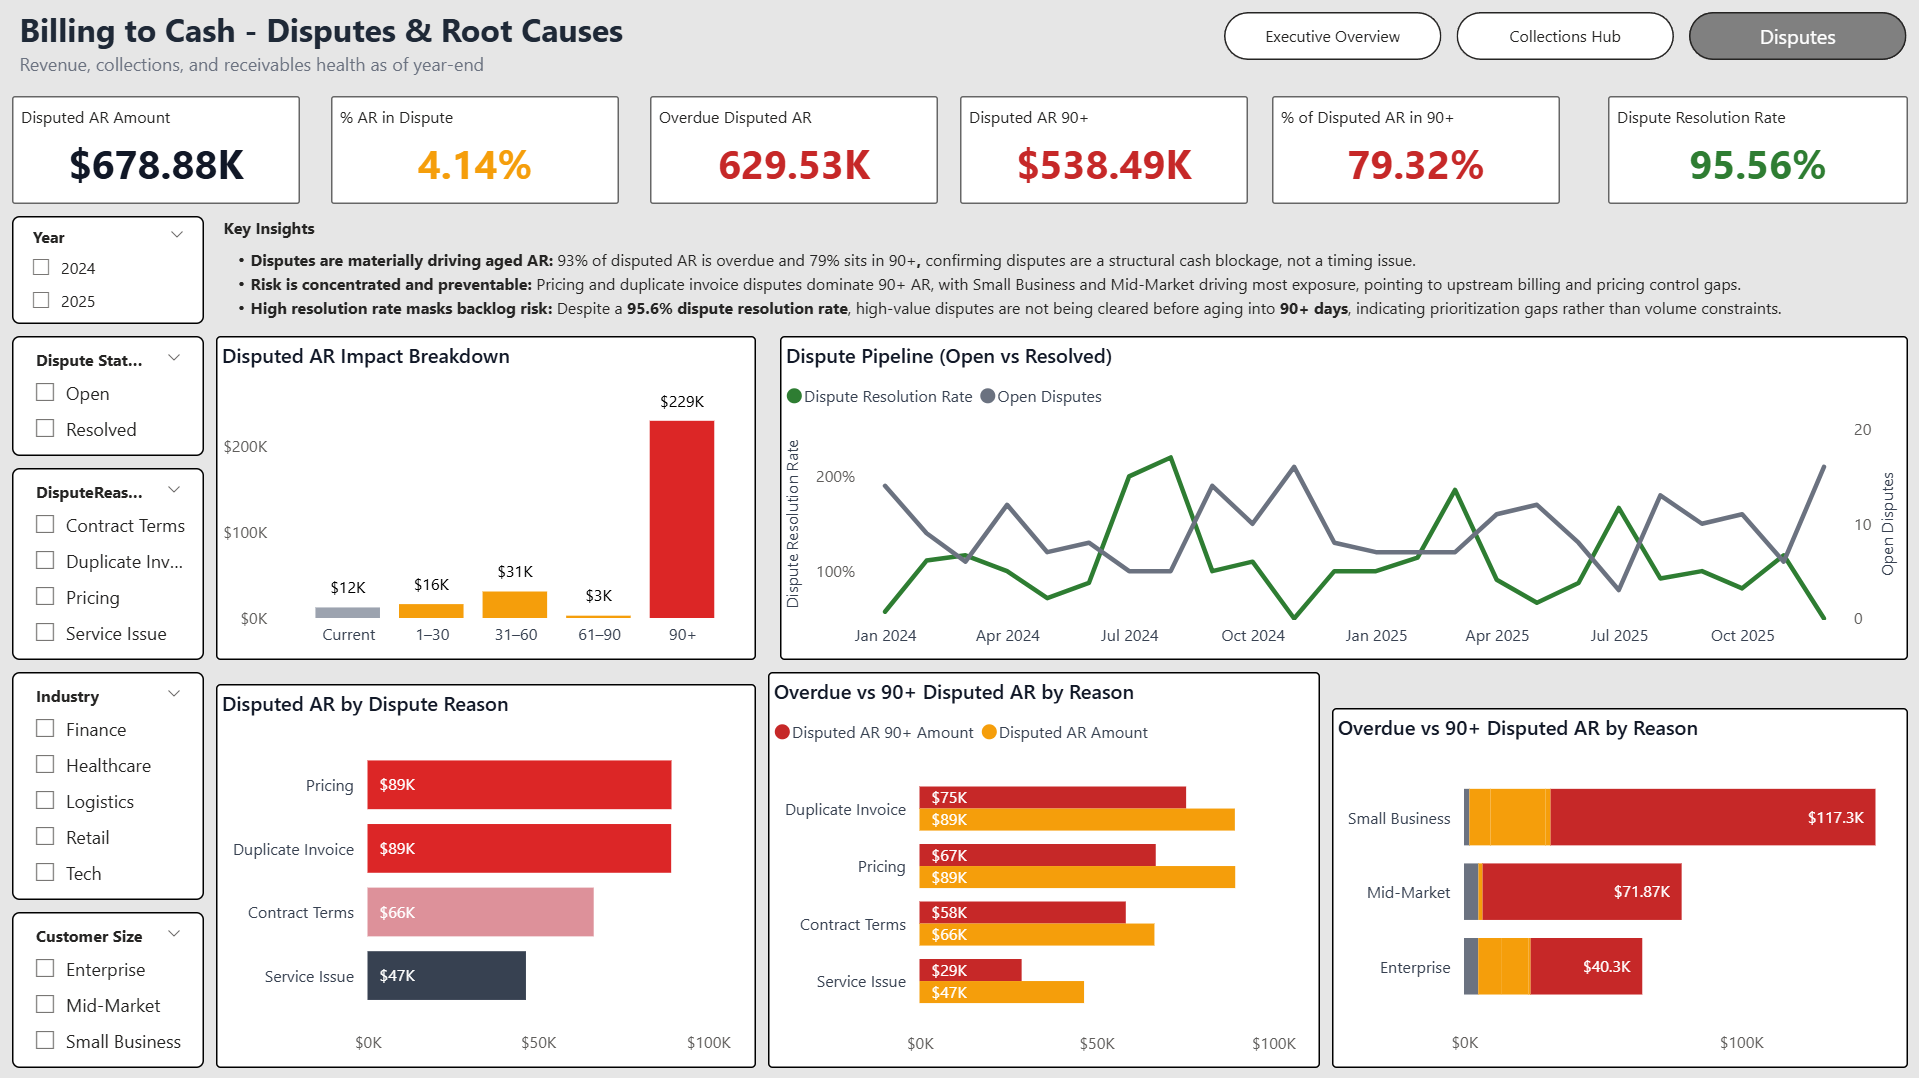

What the dashboard file says about the page in this screenshot:
{"tool":"powerbi","page":{"name":"Disputes","canvas":[1280,720],"ordinal":2},"visuals":[{"type":"textbox","box":[8,0,424,56],"z":0},{"type":"pageNavigator","box":[816,8,456,32],"z":1000},{"type":"slicer","title":"Year","fields":{"Values":["DimDate.Year"]},"box":[8,144,128,72],"z":2000},{"type":"slicer","fields":{"Values":["DimCustomer.CustomerSize"]},"box":[8,608,128,104],"z":3000},{"type":"slicer","fields":{"Values":["FactDisputes.DisputeReason"]},"box":[8,312,128,128],"z":4000},{"type":"slicer","fields":{"Values":["FactDisputes.DisputeStatus"]},"box":[8,224,128,80],"z":5000},{"type":"card","title":"% AR in Dispute","fields":{"Values":["Calc_Measures.% AR in Dispute"]},"box":[220.8,64,192,72],"z":6000},{"type":"card","title":"Disputed AR in 90+","fields":{"Values":["Calc_Measures.Disputed AR 90+ Amount"]},"box":[640,64,192,72],"z":7000},{"type":"card","title":"Disputed AR Amount","fields":{"Values":["Calc_Measures.Disputed AR Amount"]},"box":[8,64,192,72],"z":8000},{"type":"card","title":"Overdue Disputed AR","fields":{"Values":["Calc_Measures.Overdue Disputed AR"]},"box":[433.6,64,192,72],"z":9000},{"type":"card","title":"Dispute Resolution Rate","fields":{"Values":["Calc_Measures.Dispute Resolution Rate"]},"box":[1072,64,200,72],"z":10000},{"type":"card","title":"% of Disputed AR in 90+","fields":{"Values":["Calc_Measures.% of Disputed AR in 90+"]},"box":[848,64,192,72],"z":11000},{"type":"textbox","title":"Key Insights","box":[144,144,1136,88],"z":12000},{"type":"slicer","fields":{"Values":["DimCustomer.Industry"]},"box":[8,448,128,152],"z":13000},{"type":"clusteredColumnChart","title":"Disputed AR Impact Breakdown","fields":{"Category":["DimAgingBucket.Aging Bucket"],"Y":["Calc_Measures.Disputed AR Amount"]},"box":[144,224,360,216],"z":14000},{"type":"barChart","title":"Disputed AR by Dispute Reason","fields":{"Category":["FactDisputes.DisputeReason"],"Y":["Calc_Measures.Disputed AR Amount"]},"box":[144,456,360,256],"z":15000},{"type":"lineChart","title":"Dispute Pipeline (Open vs Resolved)","fields":{"Y":["Calc_Measures.Dispute Resolution Rate"],"Category":["DimDate.Date.Variation.Date Hierarchy.Year","DimDate.Date.Variation.Date Hierarchy.Month"],"Y2":["Calc_Measures.Open Disputes (Count)"]},"box":[520,224,752,216],"z":16000},{"type":"clusteredBarChart","title":"Overdue vs 90+ Disputed AR by Reason","fields":{"Category":["FactDisputes.DisputeReason"],"Y":["Calc_Measures.Disputed AR 90+ Amount","Calc_Measures.Disputed AR Amount"]},"box":[512,448,368,264],"z":17000},{"type":"barChart","title":"Overdue vs 90+ Disputed AR by Reason","fields":{"Y":["Calc_Measures.Disputed AR Amount"],"Category":["DimCustomer.CustomerSize"],"Series":["DimAgingBucket.Aging Bucket"]},"box":[888,472,384,240],"z":18000}]}

Visuals, with their boxes in screenshot pixels (x1, y1, x2, y2), scaled from the page's 1280x720 canvas onto the 1919x1078 screenshot:
textbox: BBox(12, 0, 648, 84)
pageNavigator: BBox(1223, 12, 1907, 60)
"Year" slicer: BBox(12, 216, 204, 323)
slicer - DimCustomer.CustomerSize: BBox(12, 910, 204, 1066)
slicer - FactDisputes.DisputeReason: BBox(12, 467, 204, 659)
slicer - FactDisputes.DisputeStatus: BBox(12, 335, 204, 455)
"% AR in Dispute" card: BBox(331, 96, 619, 204)
"Disputed AR in 90+" card: BBox(960, 96, 1247, 204)
"Disputed AR Amount" card: BBox(12, 96, 300, 204)
"Overdue Disputed AR" card: BBox(650, 96, 938, 204)
"Dispute Resolution Rate" card: BBox(1607, 96, 1907, 204)
"% of Disputed AR in 90+" card: BBox(1271, 96, 1559, 204)
"Key Insights" textbox: BBox(216, 216, 1918, 347)
slicer - DimCustomer.Industry: BBox(12, 671, 204, 898)
"Disputed AR Impact Breakdown" clusteredColumnChart: BBox(216, 335, 756, 659)
"Disputed AR by Dispute Reason" barChart: BBox(216, 683, 756, 1066)
"Dispute Pipeline (Open vs Resolved)" lineChart: BBox(780, 335, 1907, 659)
"Overdue vs 90+ Disputed AR by Reason" clusteredBarChart: BBox(768, 671, 1319, 1066)
"Overdue vs 90+ Disputed AR by Reason" barChart: BBox(1331, 707, 1907, 1066)
